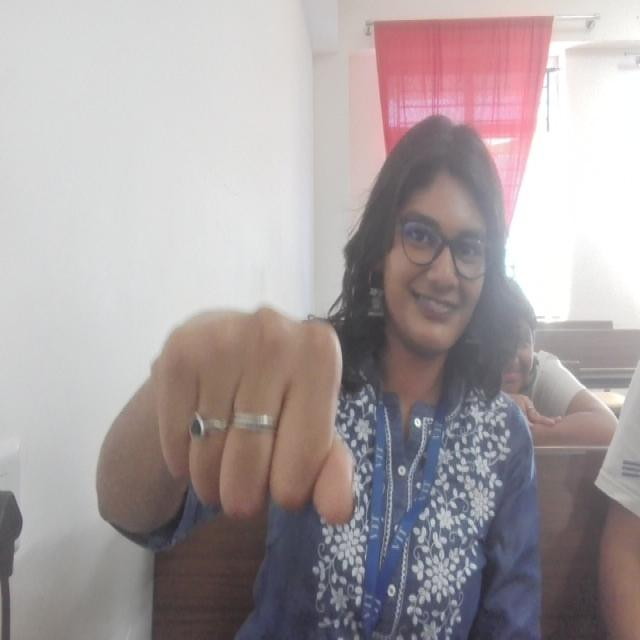yes: (148, 298, 360, 530)
